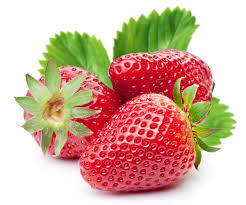strawberry: (79, 90, 205, 196), (15, 59, 129, 161), (108, 48, 217, 124)
